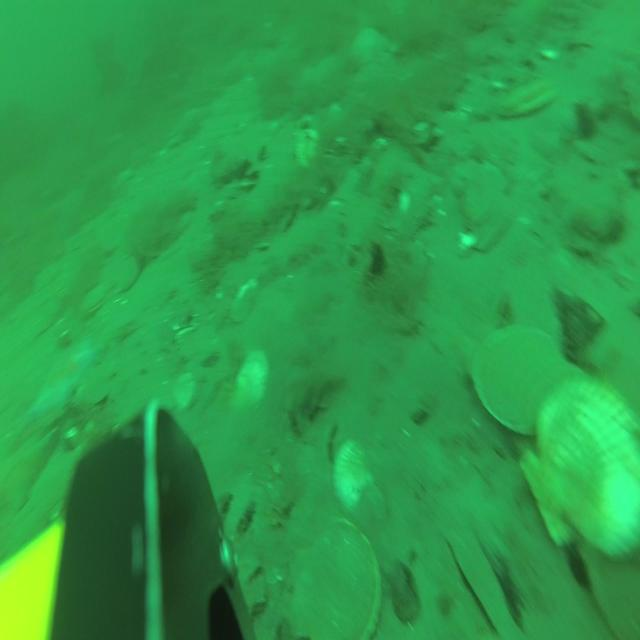scallop: (520, 376, 640, 557), (473, 327, 587, 429), (291, 524, 381, 640), (334, 440, 378, 518), (464, 163, 501, 228), (499, 78, 556, 118), (234, 351, 270, 410), (476, 200, 514, 254), (231, 278, 259, 324), (116, 249, 144, 295), (360, 482, 387, 522), (293, 132, 318, 173), (80, 284, 106, 317), (176, 376, 194, 415)
starfish: (18, 342, 104, 427), (0, 425, 62, 515), (349, 24, 386, 62)
